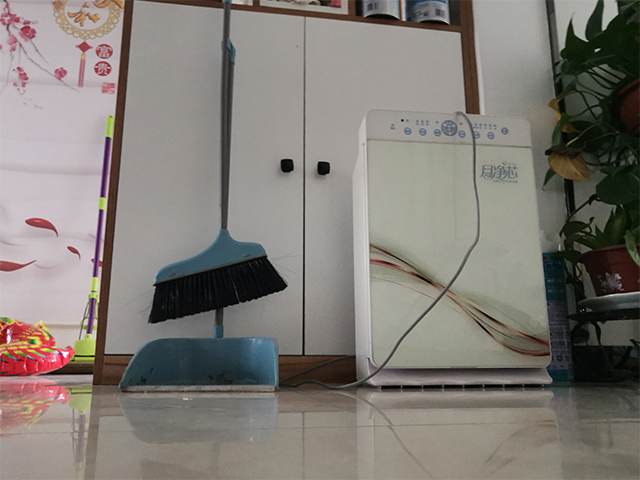cabinet: (89, 1, 481, 386)
